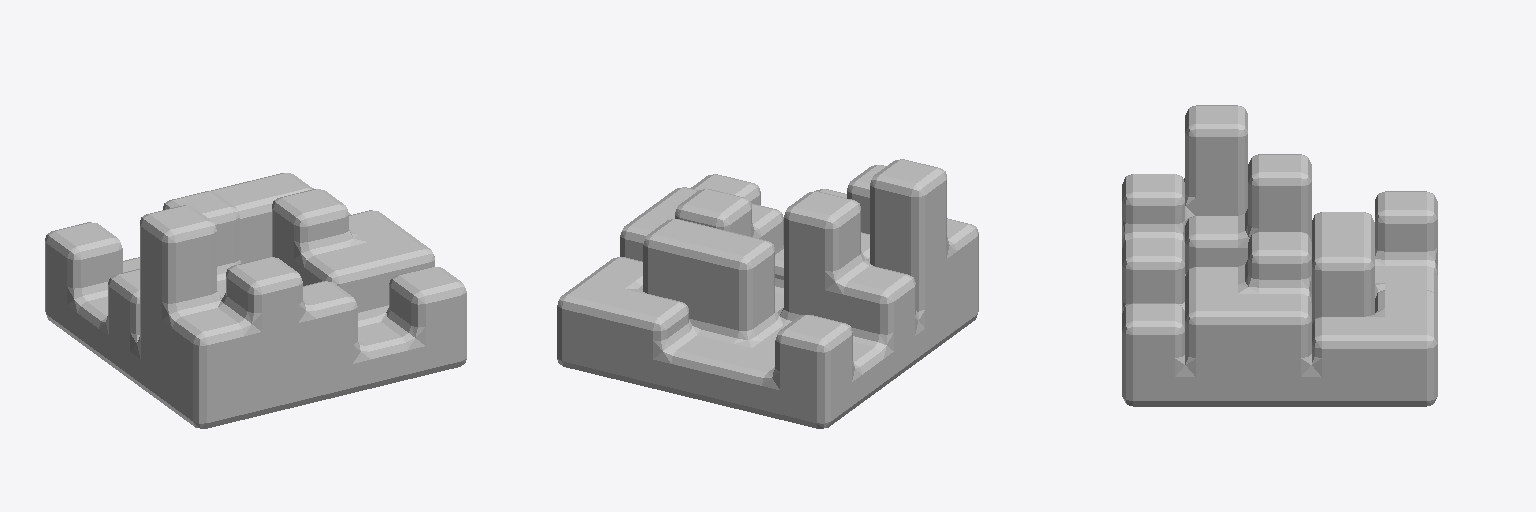
The model's file is brick_material.obj.
3 views of the same model, side by side, from view 1: azimuth 30°, elevation 25°; view 2: azimuth 150°, elevation 25°; view 3: azimuth 270°, elevation 25° (orthographic).
Parts seen in each view (by area): view 1: Cube; view 2: Cube; view 3: Cube.
Boxes of the visible parts, x1,y1,x2,y2 form: Cube: [45, 173, 466, 428]; Cube: [557, 159, 978, 428]; Cube: [1122, 105, 1437, 406].
Bounding box in the file's own units: 6 × 3.7 × 6.